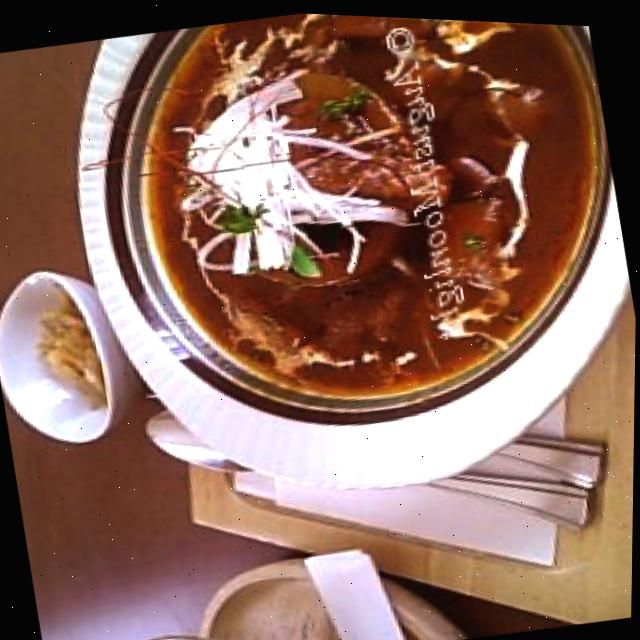汤锅炖物: (35, 1, 640, 541)
